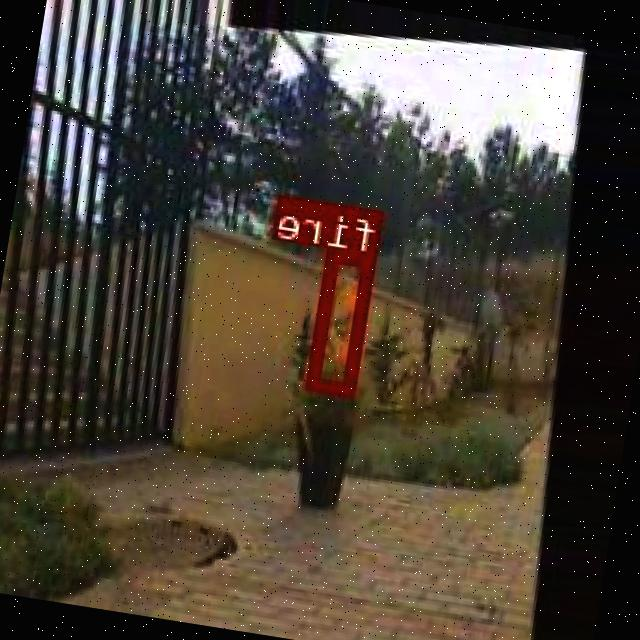fire: (308, 246, 380, 394)
